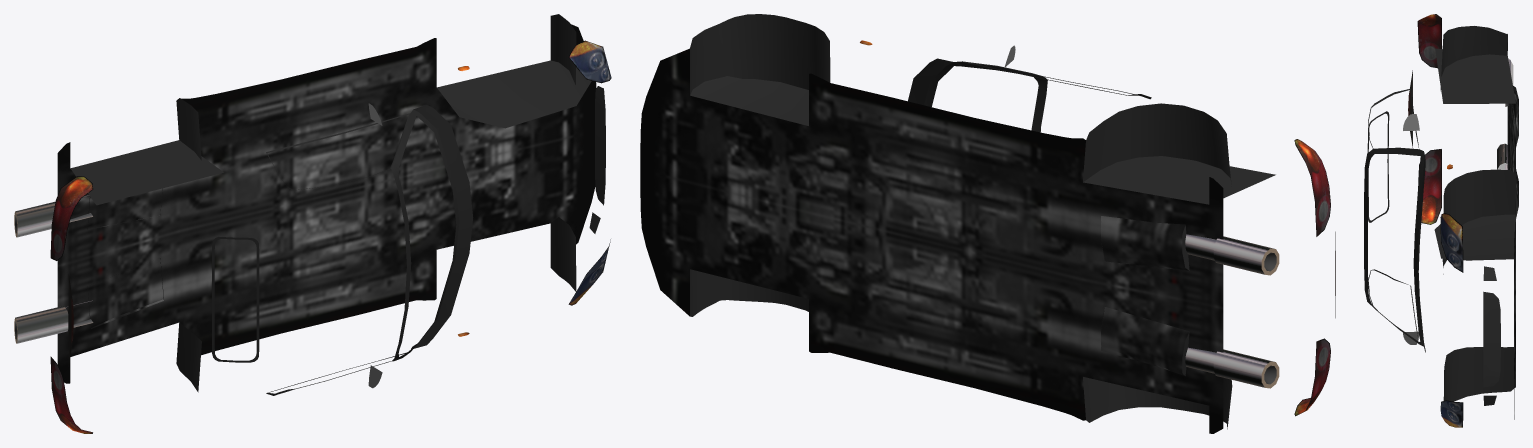
File: details.obj
3 views of the same model, side by side, from view 1: azimuth 30°, elevation 25°; view 2: azimuth 150°, elevation 25°; view 3: azimuth 270°, elevation 25° (orthographic). The views are drawn at different scales.
Visible parts, largest first — view 1: baked, 2_-_Default, 13_-_Default, 3_-_Default; view 2: baked, 2_-_Default, 13_-_Default; view 3: 2_-_Default, baked, 13_-_Default, 3_-_Default, mirrors.
Boxes of the visible parts, bbox=[...] form: baked: bbox=[14, 24, 611, 433]; 2_-_Default: bbox=[70, 14, 591, 392]; 13_-_Default: bbox=[212, 105, 473, 395]; 3_-_Default: bbox=[589, 86, 605, 233]; baked: bbox=[640, 40, 1335, 433]; 2_-_Default: bbox=[690, 14, 1275, 429]; 13_-_Default: bbox=[908, 58, 1151, 132]; 2_-_Default: bbox=[1434, 26, 1518, 401]; baked: bbox=[1408, 14, 1518, 427]; 13_-_Default: bbox=[1364, 88, 1425, 352]; 3_-_Default: bbox=[1483, 266, 1500, 405]; mirrors: bbox=[1403, 114, 1419, 344].
Bounding box in the file's own units: 3.76 × 1.74 × 1.04.
Materials: 6 (1 with a texture image).
